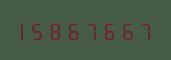eight: (51, 20, 67, 40)
five: (34, 20, 50, 40)
one: (17, 20, 33, 40)
seven: (85, 20, 101, 40), (136, 20, 152, 40)
six: (68, 20, 84, 40), (102, 20, 118, 40), (119, 20, 135, 40)
